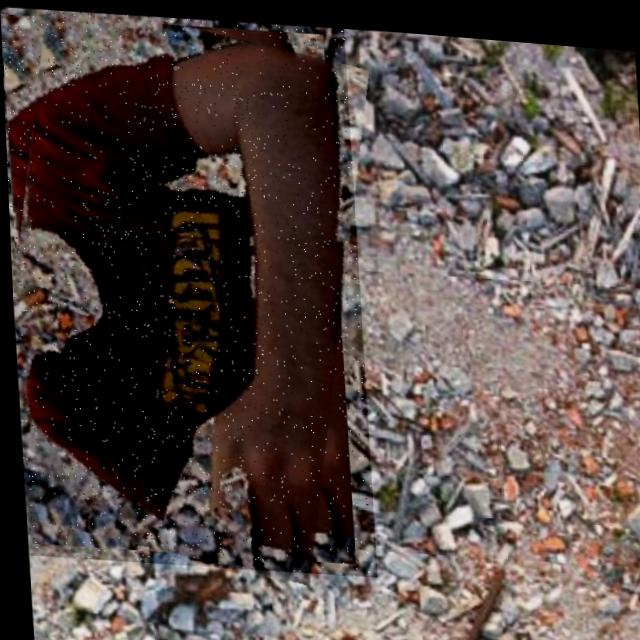Person in Rubble: (0, 0, 372, 576)
